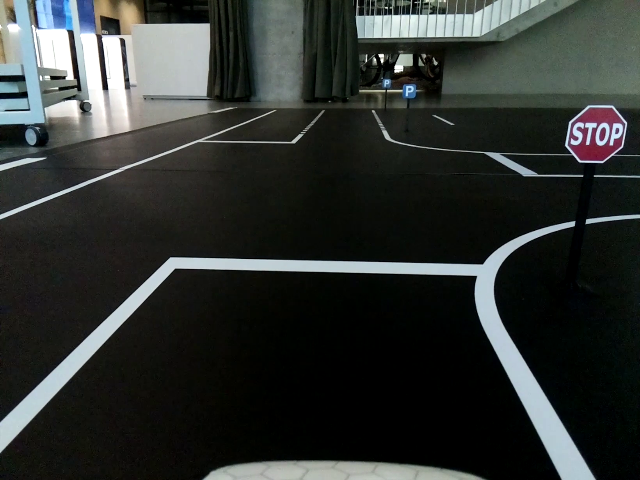stop: (564, 102, 627, 167)
